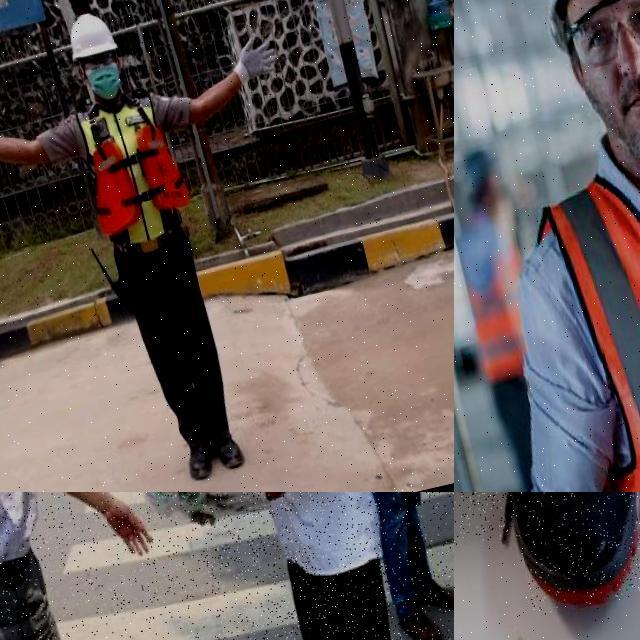boots: (454, 492, 640, 616), (454, 492, 521, 587), (208, 421, 250, 475), (180, 430, 220, 484), (396, 600, 448, 640), (415, 575, 454, 617)
helmet: (517, 0, 640, 58), (64, 8, 120, 62)
vest: (526, 130, 640, 492), (70, 85, 200, 252), (454, 218, 549, 389)
